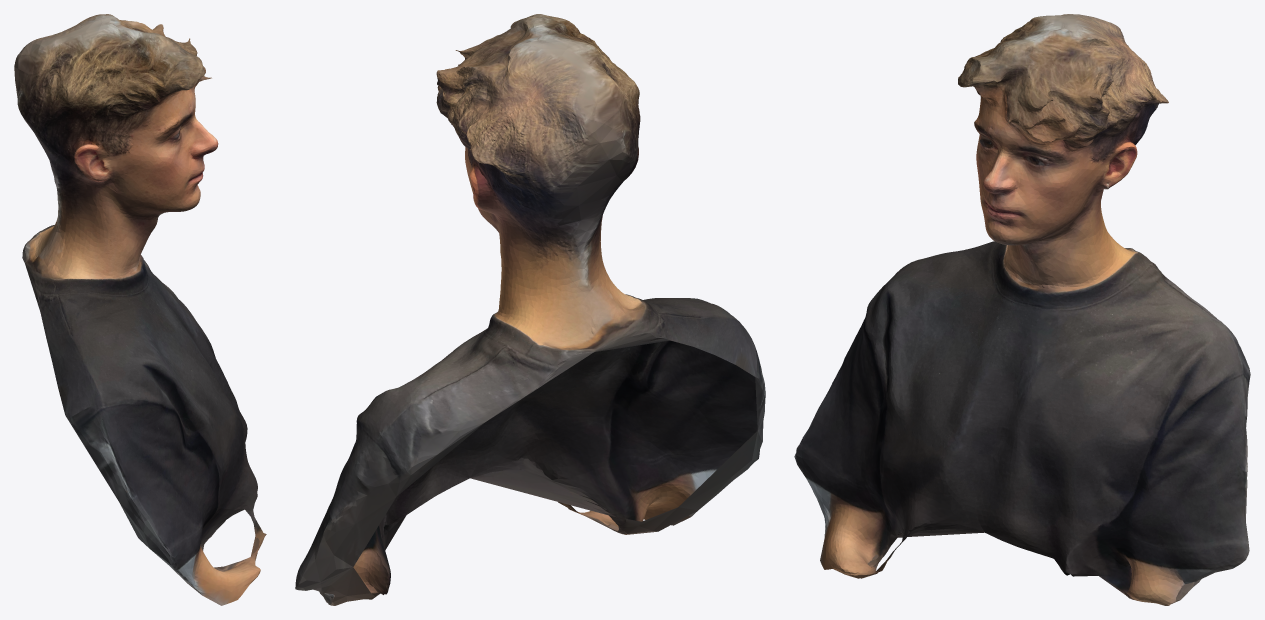
The model's file is edoardo.obj.
3 renders of one model, left to right at view 1: azimuth 30°, elevation 25°; view 2: azimuth 150°, elevation 25°; view 3: azimuth 270°, elevation 25°, orthographic. The views are drawn at different scales.
Parts seen in each view (by area): view 1: mesh_0; view 2: mesh_0; view 3: mesh_0.
Part boxes in pixels (bbox=[...]): mesh_0: bbox=[14, 14, 266, 605]; mesh_0: bbox=[295, 14, 765, 605]; mesh_0: bbox=[794, 14, 1250, 605].
Bounding box in the file's own units: 0.3832 × 0.7454 × 0.5781.
